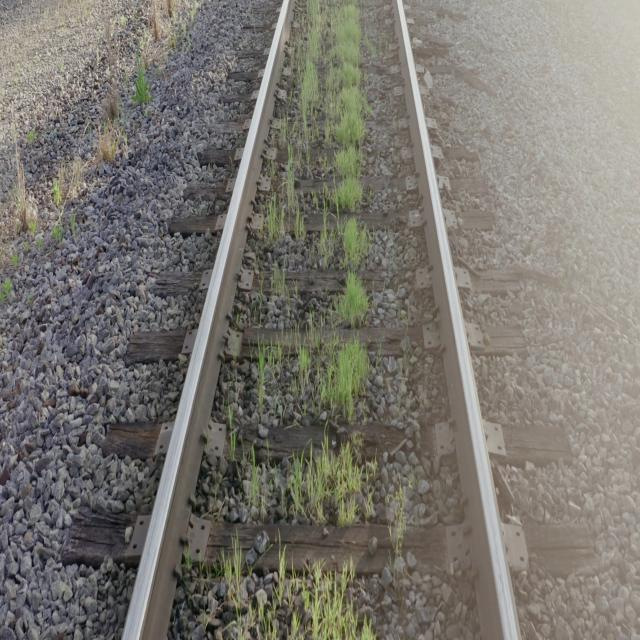Plant: (281, 0, 366, 213), (224, 551, 371, 638), (279, 442, 374, 524), (311, 216, 369, 327), (291, 340, 369, 422), (302, 562, 375, 640), (264, 149, 300, 247), (256, 344, 282, 418), (250, 462, 259, 509), (278, 276, 285, 291)
